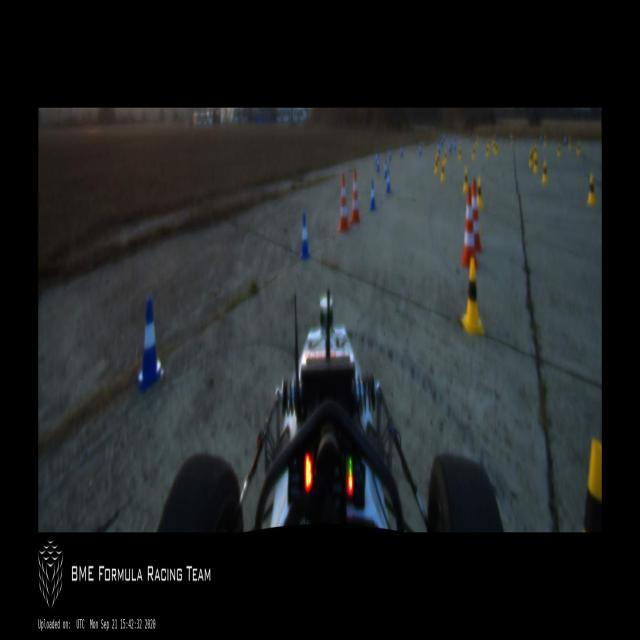blue_cone: (137, 298, 163, 391), (300, 213, 310, 259), (370, 181, 376, 210), (386, 170, 391, 193), (384, 158, 388, 178), (388, 146, 392, 162), (377, 156, 380, 172), (400, 145, 403, 157), (375, 149, 377, 165)
large_orange_cone: (460, 188, 478, 266), (471, 180, 482, 252), (338, 174, 350, 232), (350, 169, 360, 225)
yellow_cone: (460, 255, 480, 332), (588, 176, 596, 207), (476, 177, 483, 208), (462, 168, 469, 194), (542, 162, 548, 184), (440, 161, 446, 182), (534, 155, 540, 173), (529, 150, 533, 168), (435, 155, 438, 174), (437, 152, 439, 168), (445, 149, 447, 163)
